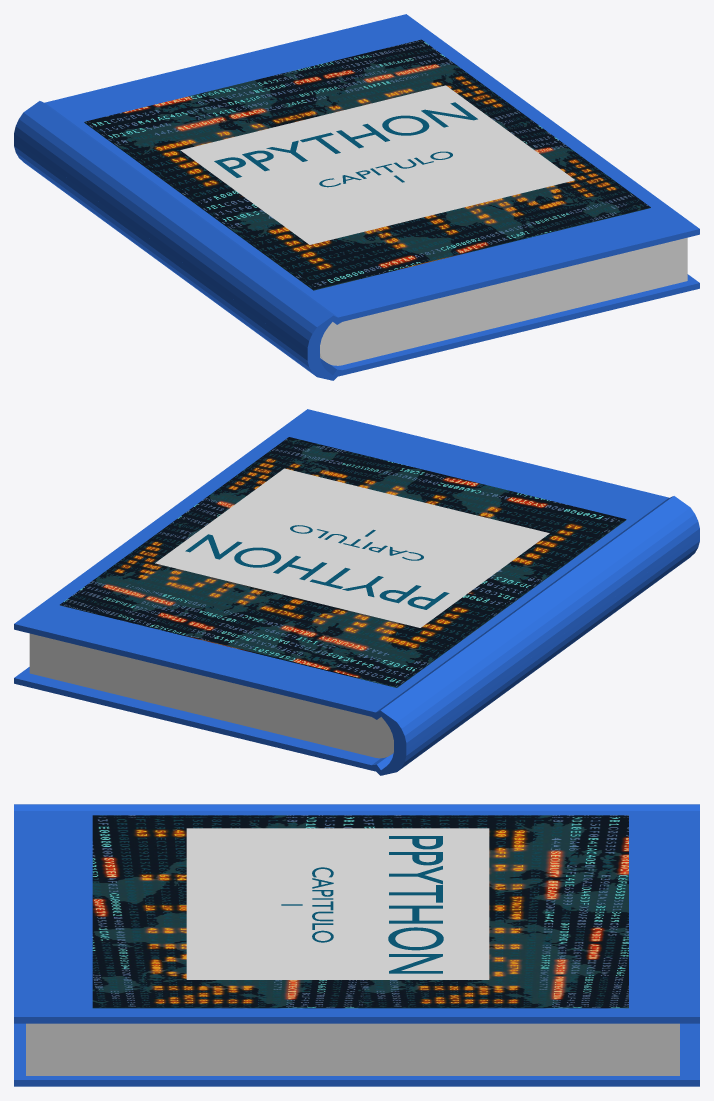
File: Libro1.fbx
The picture shows the model from 3 angles, top to bottom: view 1: azimuth 30°, elevation 25°; view 2: azimuth 150°, elevation 25°; view 3: azimuth 270°, elevation 25°; orthographic projection. The views are drawn at different scales.
Parts seen in each view (by area): view 1: Pasta, fondo, Plano, Cubo, PPYTHON; view 2: Pasta, fondo, Plano, Cubo, PPYTHON; view 3: fondo, Pasta, Plano, Cubo, PPYTHON, PPYTHON.001.
Boxes of the visible parts, x1,y1,x2,y2 form: Pasta: (14,14,699,380); fondo: (84,39,650,290); Plano: (180,85,574,244); Cubo: (320,237,687,365); PPYTHON: (214,102,477,177); Pasta: (14,409,699,775); fondo: (60,437,626,687); Plano: (155,468,549,627); Cubo: (29,633,393,758); PPYTHON: (185,534,449,609); fondo: (92,815,628,1008); Pasta: (14,804,699,1086); Plano: (186,828,489,979); Cubo: (26,1023,679,1075); PPYTHON: (388,836,443,973); PPYTHON.001: (281,867,333,942).
Size of the model in its own units: 90.46 by 15.35 by 117.
